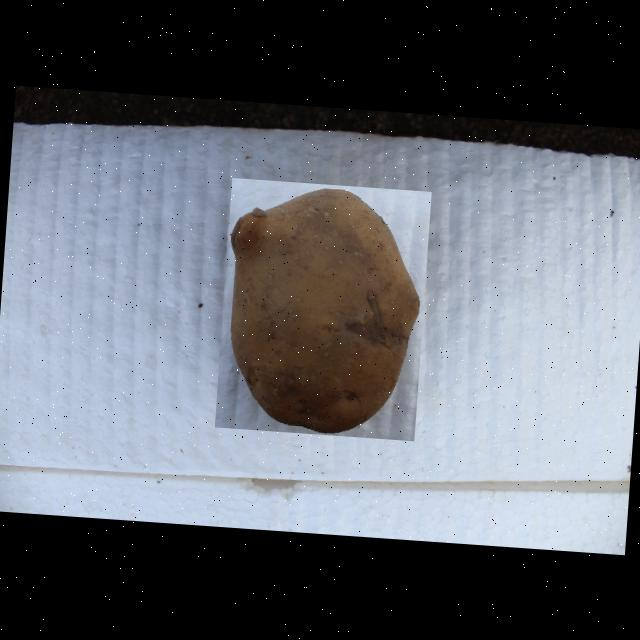Diseased-fungal potato: (214, 178, 432, 440)
